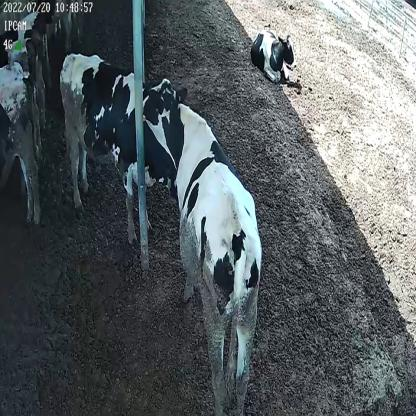cow: (142, 73, 264, 416), (60, 51, 181, 244), (249, 19, 302, 85)
